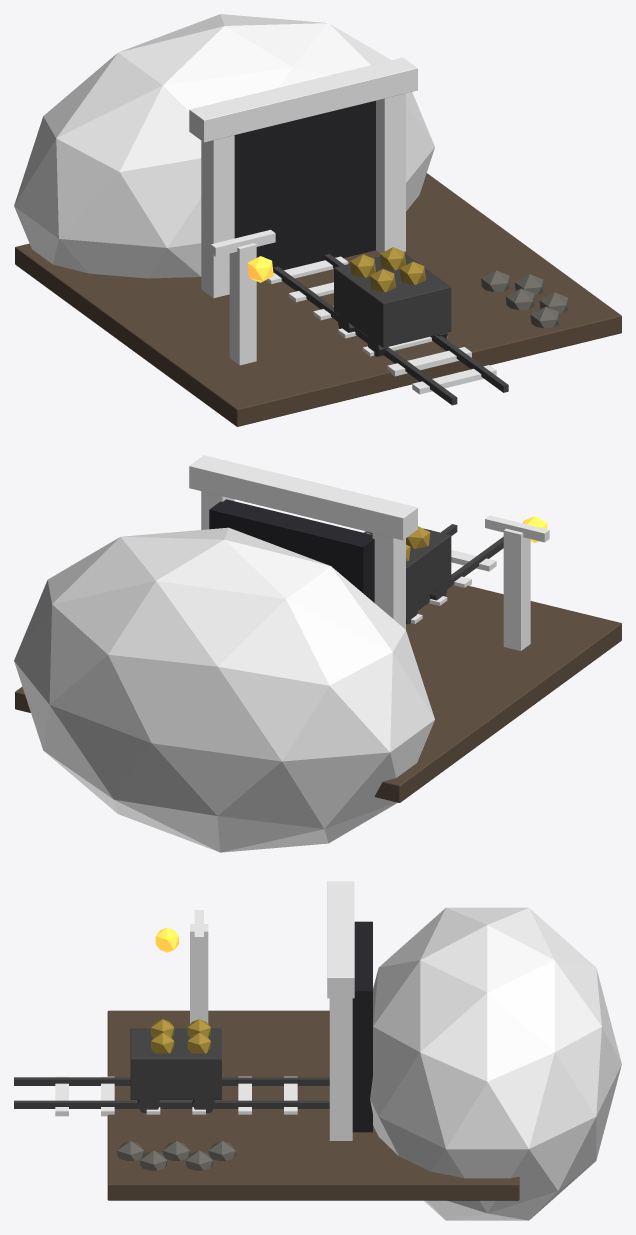
File: maden.glb
3 views of the same model, one above another, from view 1: azimuth 30°, elevation 25°; view 2: azimuth 150°, elevation 25°; view 3: azimuth 270°, elevation 25° (orthographic). The views are drawn at different scales.
Visible parts, largest first — view 1: Cone; view 2: Cone; view 3: Cone.
Part boxes in pixels (x1,y1,x2,y2): Cone: (14,14,621,426); Cone: (14,455,621,852); Cone: (14,881,621,1220).
Bounding box in the file's own units: 0.6772 × 0.5056 × 1.
